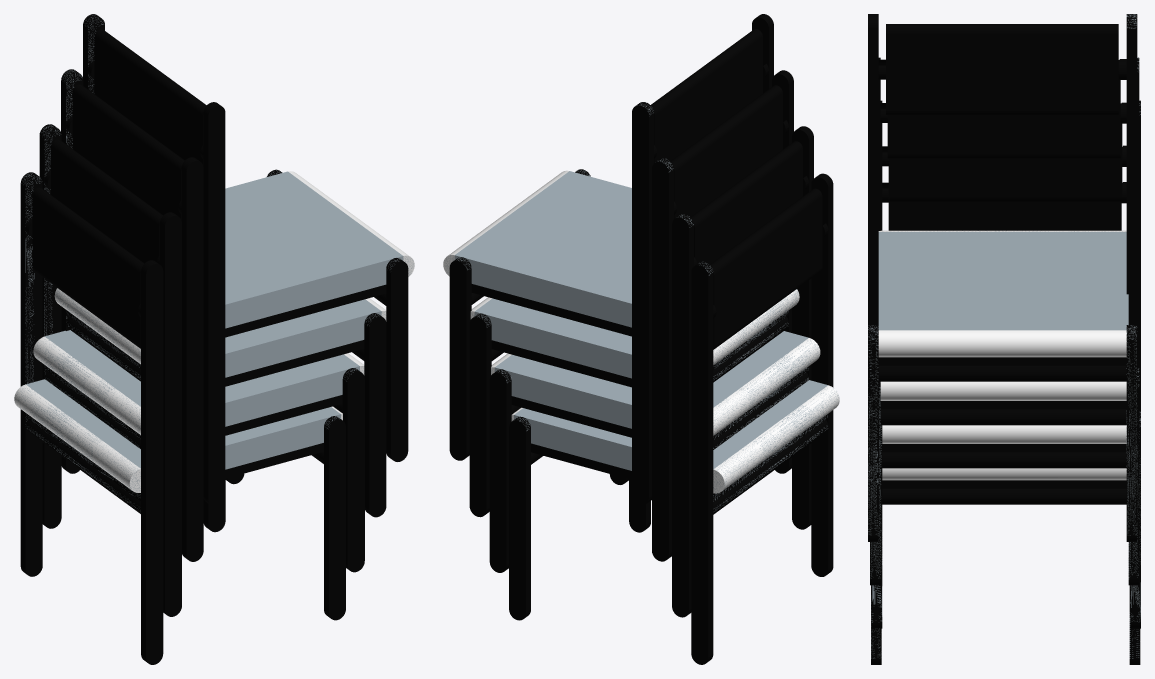
Rendered from ChairStack.dae.
The picture shows the model from 3 angles, left to right: view 1: azimuth 30°, elevation 25°; view 2: azimuth 150°, elevation 25°; view 3: azimuth 270°, elevation 25°; orthographic projection. The views are drawn at different scales.
Visible parts, largest first — view 1: CHAIR_STACKING_BLACK_FRAME_WITH_ROTATING_BACK___NO_COLOR_ON_ (×14); view 2: CHAIR_STACKING_BLACK_FRAME_WITH_ROTATING_BACK___NO_COLOR_ON_ (×13); view 3: CHAIR_STACKING_BLACK_FRAME_WITH_ROTATING_BACK___NO_COLOR_ON_ (×12).
Part boxes in pixels (x1,y1,x2,y2): CHAIR_STACKING_BLACK_FRAME_WITH_ROTATING_BACK___NO_COLOR_ON_ (×14): (14, 25, 409, 664); CHAIR_STACKING_BLACK_FRAME_WITH_ROTATING_BACK___NO_COLOR_ON_ (×13): (448, 14, 839, 664); CHAIR_STACKING_BLACK_FRAME_WITH_ROTATING_BACK___NO_COLOR_ON_ (×12): (868, 14, 1140, 664).
Bounding box in the file's own units: 24.83 × 19.25 × 45.57.
